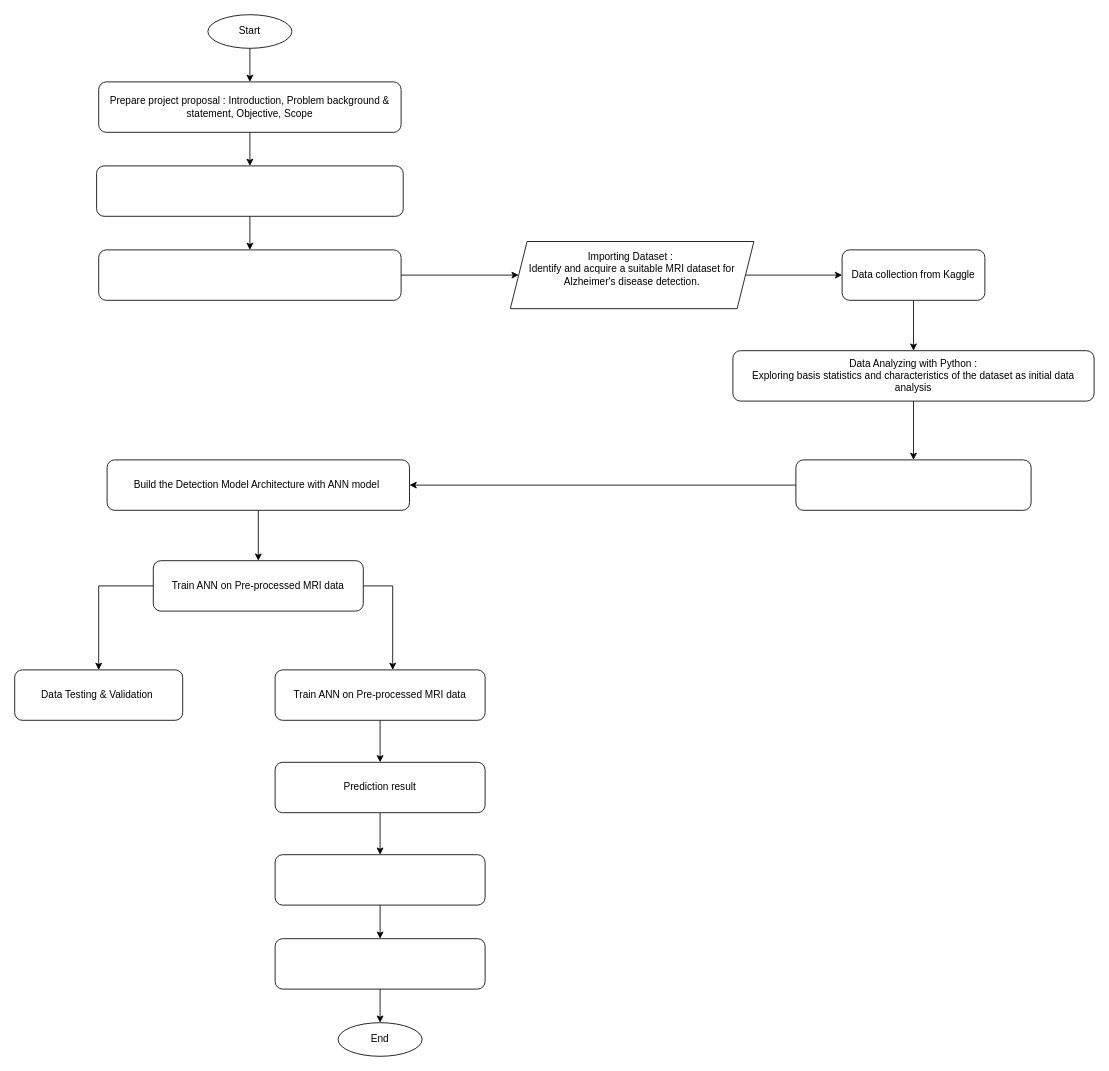
This 1109x1071 diagram has some shape labels left out. Here are the shapes that lost their labels. From the top down, the centre of each, then its label:
At (x=249, y=190): "Software Installation & Hardware Setups :".
At (x=249, y=274): "Data Collection and Pre-processing".
At (x=913, y=484): "Data Wrangling : Data cleaning & quality check, Handling missing data".
At (x=379, y=879): "Evaluate ANN models on the test dataset".
At (x=379, y=963): "Output result".
